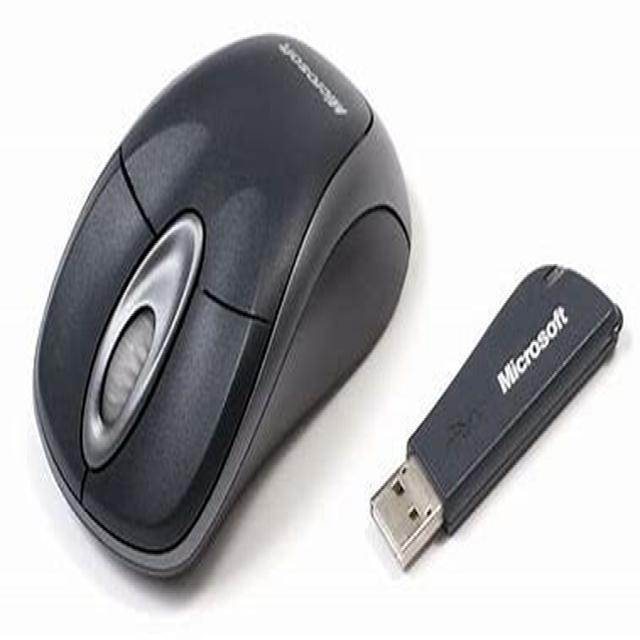mouse: (43, 54, 443, 636)
